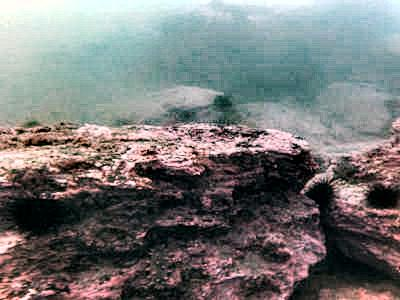urchin: (8, 197, 69, 232), (361, 184, 393, 211), (308, 181, 333, 205)
